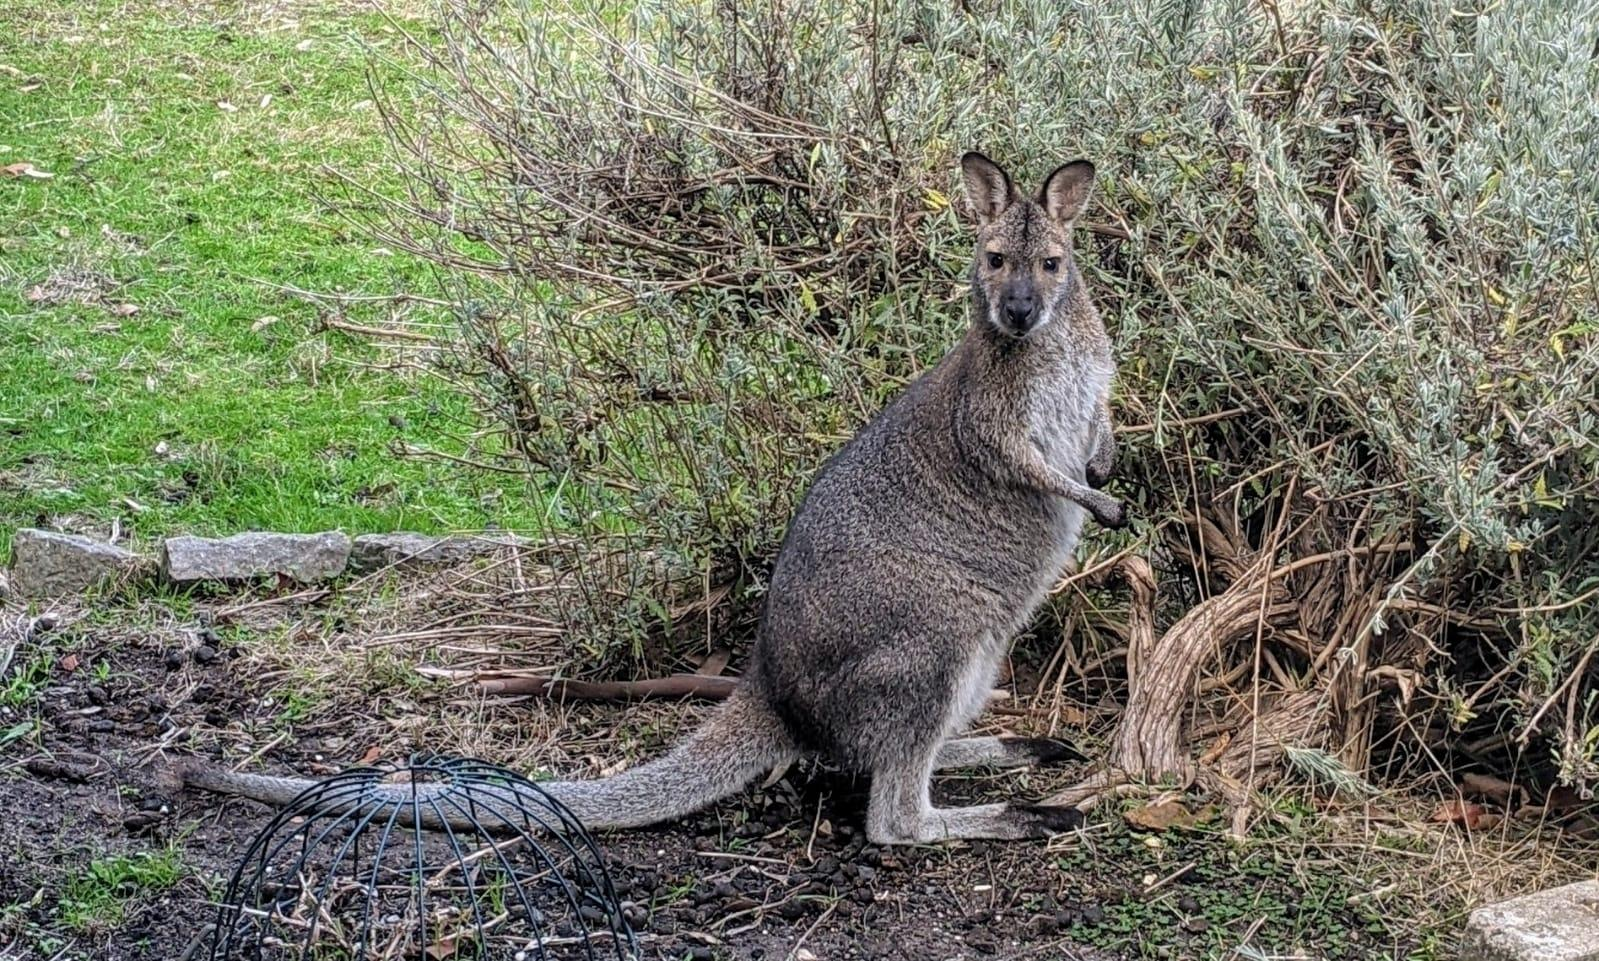Red-necked wallaby: (29, 143, 1126, 884)
